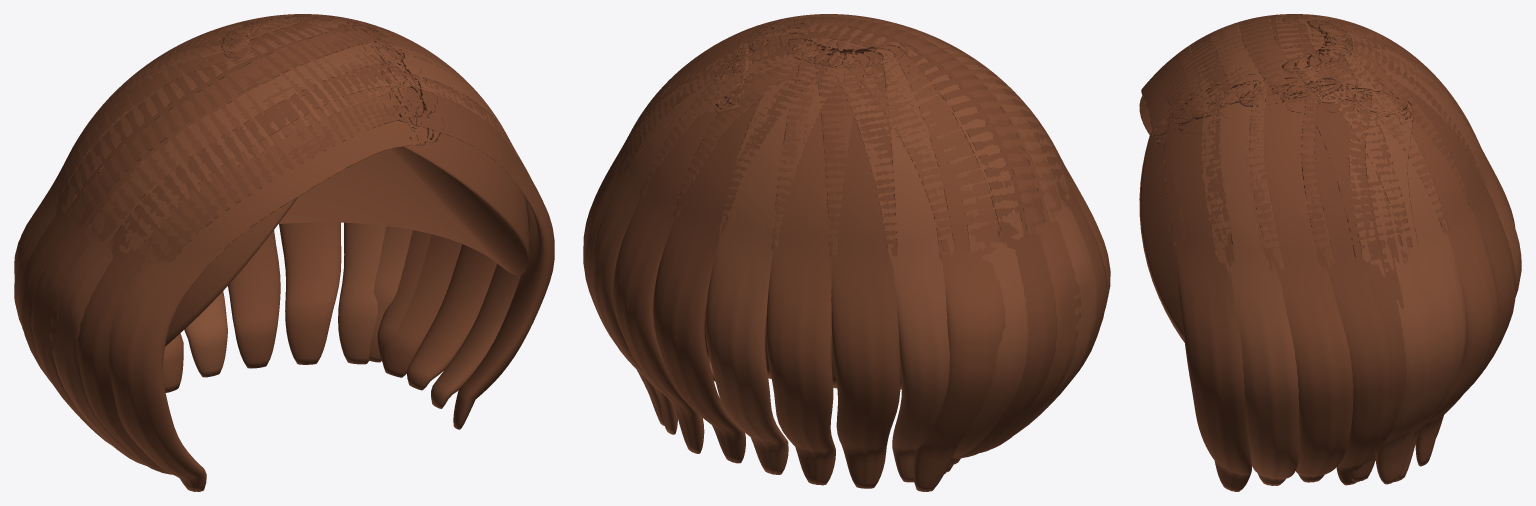
File: Masculine-flow-pashmina-hair.glb
3 renders of one model, left to right at view 1: azimuth 30°, elevation 25°; view 2: azimuth 150°, elevation 25°; view 3: azimuth 270°, elevation 25°, orthographic. The views are drawn at different scales.
Visible parts, largest first — view 1: 226 hair / Hair / sculpted 0.004, 226 hair / Hair / sculpted 1.005, 226 hair / Hair / sculpted 2.004, 226 hair / Hair / sculpted 1.001; view 2: 226 hair / Hair / sculpted 0.004, 226 hair / Hair / sculpted 2.004, 226 hair / Hair / sculpted 1.005; view 3: 226 hair / Hair / sculpted 1.005, 226 hair / Hair / sculpted 2.004, 226 hair / Hair / sculpted 0.004, 226 hair / Hair / sculpted 1.001.
Boxes of the visible parts, x1,y1,x2,y2 form: 226 hair / Hair / sculpted 0.004: (14, 14, 496, 491); 226 hair / Hair / sculpted 1.005: (19, 14, 554, 474); 226 hair / Hair / sculpted 2.004: (14, 14, 530, 465); 226 hair / Hair / sculpted 1.001: (165, 133, 528, 346); 226 hair / Hair / sculpted 0.004: (612, 14, 1110, 491); 226 hair / Hair / sculpted 2.004: (583, 14, 1097, 482); 226 hair / Hair / sculpted 1.005: (583, 15, 1106, 488); 226 hair / Hair / sculpted 1.005: (1158, 14, 1516, 491); 226 hair / Hair / sculpted 2.004: (1180, 14, 1521, 485); 226 hair / Hair / sculpted 0.004: (1141, 14, 1515, 482); 226 hair / Hair / sculpted 1.001: (1139, 95, 1184, 342).
Size of the model in its own units: 1.07 by 0.8686 by 0.7757.
